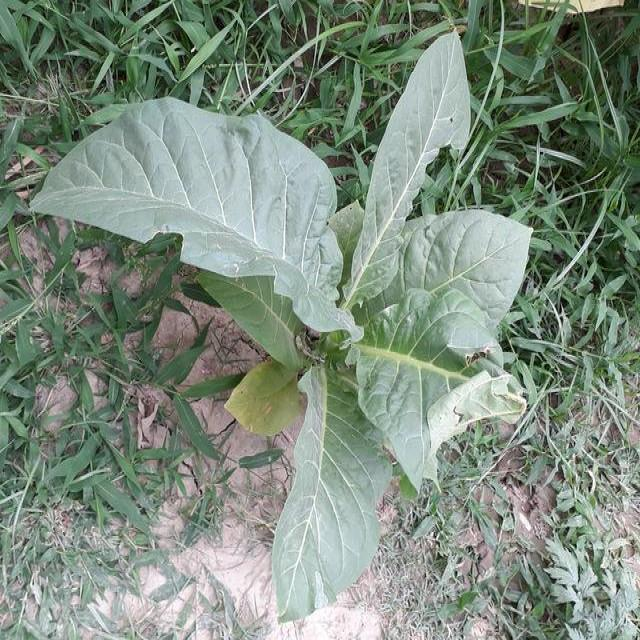crop: (62, 55, 522, 610)
